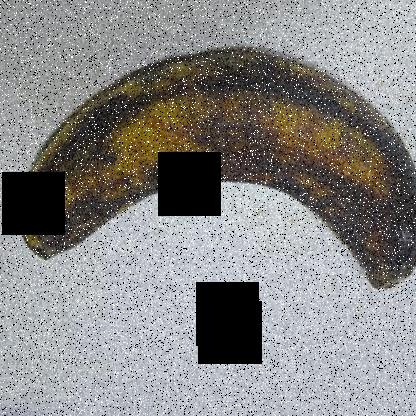overripe: (13, 24, 415, 315)
rotten: (338, 150, 415, 290)
